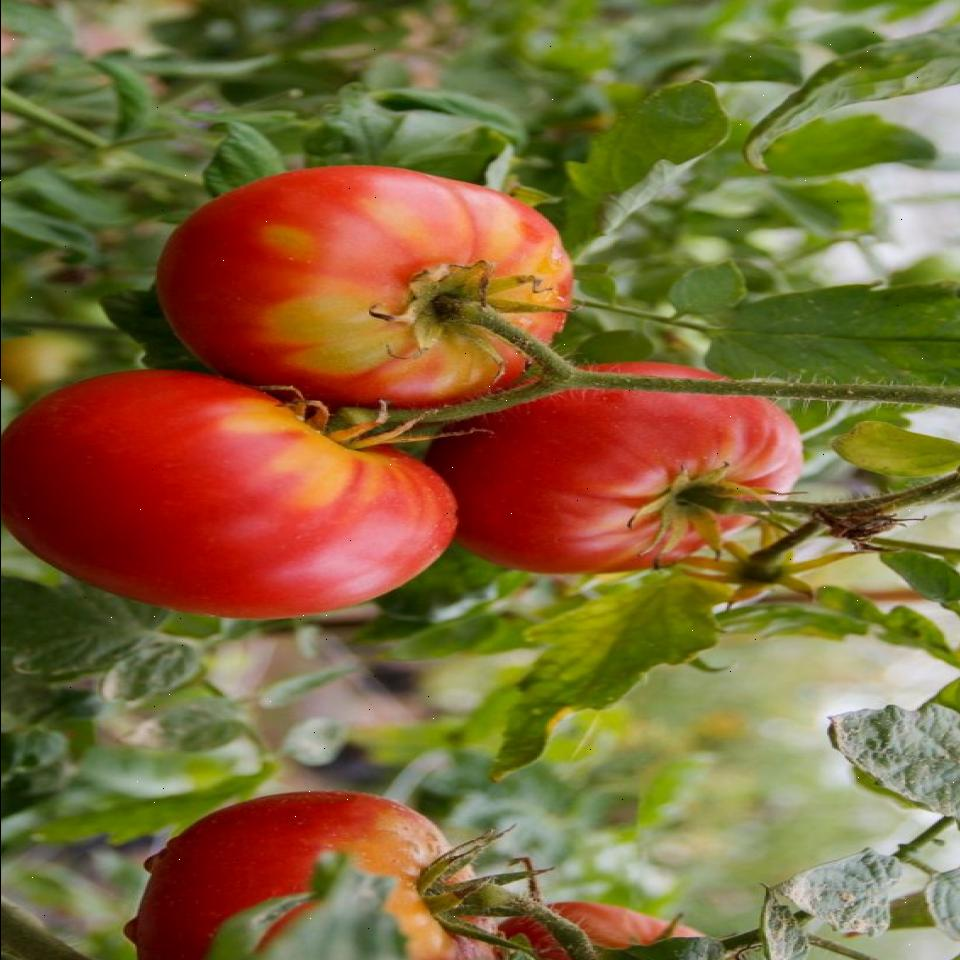Healthy: (422, 360, 804, 576)
Spotted wilt Virus: (0, 365, 462, 620), (152, 166, 578, 408)
